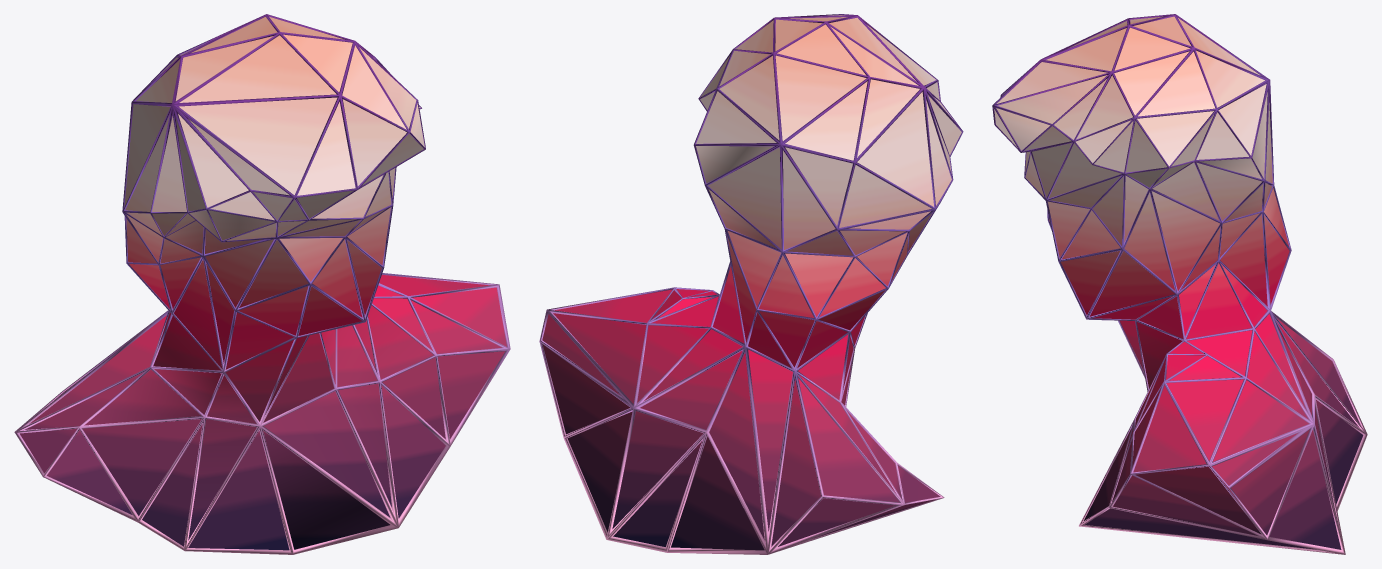
Rendered from Structure_Retro_David_Art.fbx.
3 views of the same model, side by side, from view 1: azimuth 30°, elevation 25°; view 2: azimuth 150°, elevation 25°; view 3: azimuth 270°, elevation 25° (orthographic). The views are drawn at different scales.
Visible parts, largest first — view 1: Structure_Retro_David_Bust, Structure_Retro_David_Art; view 2: Structure_Retro_David_Bust, Structure_Retro_David_Art; view 3: Structure_Retro_David_Bust, Structure_Retro_David_Art.
Part boxes in pixels (left/top/right/bottom): Structure_Retro_David_Bust: left=20, top=16, right=506, bottom=550; Structure_Retro_David_Art: left=14, top=14, right=510, bottom=554; Structure_Retro_David_Bust: left=542, top=15, right=961, bottom=550; Structure_Retro_David_Art: left=539, top=14, right=963, bottom=554; Structure_Retro_David_Bust: left=994, top=16, right=1363, bottom=549; Structure_Retro_David_Art: left=992, top=14, right=1367, bottom=554.
Size of the model in its own units: 3.36 by 3.74 by 2.64.
